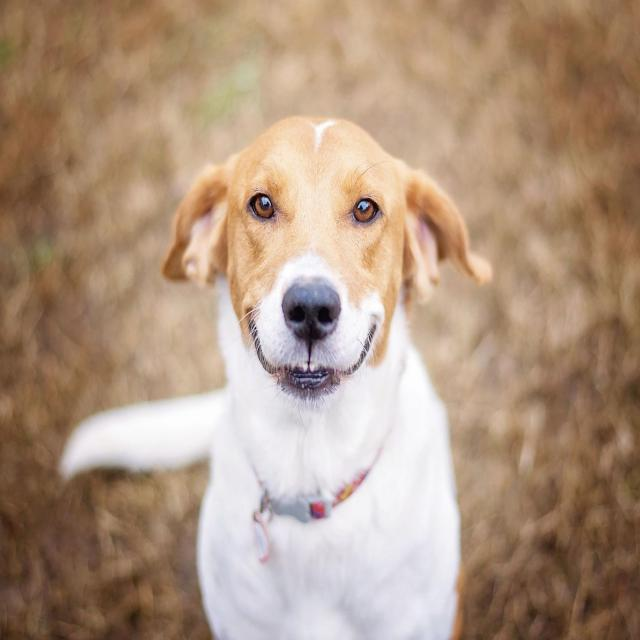Dog: (158, 108, 500, 420)
